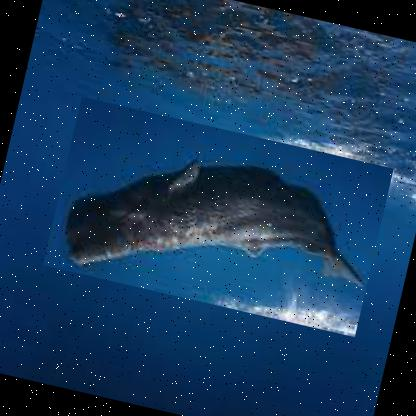sperm_whale: (41, 96, 393, 338)
